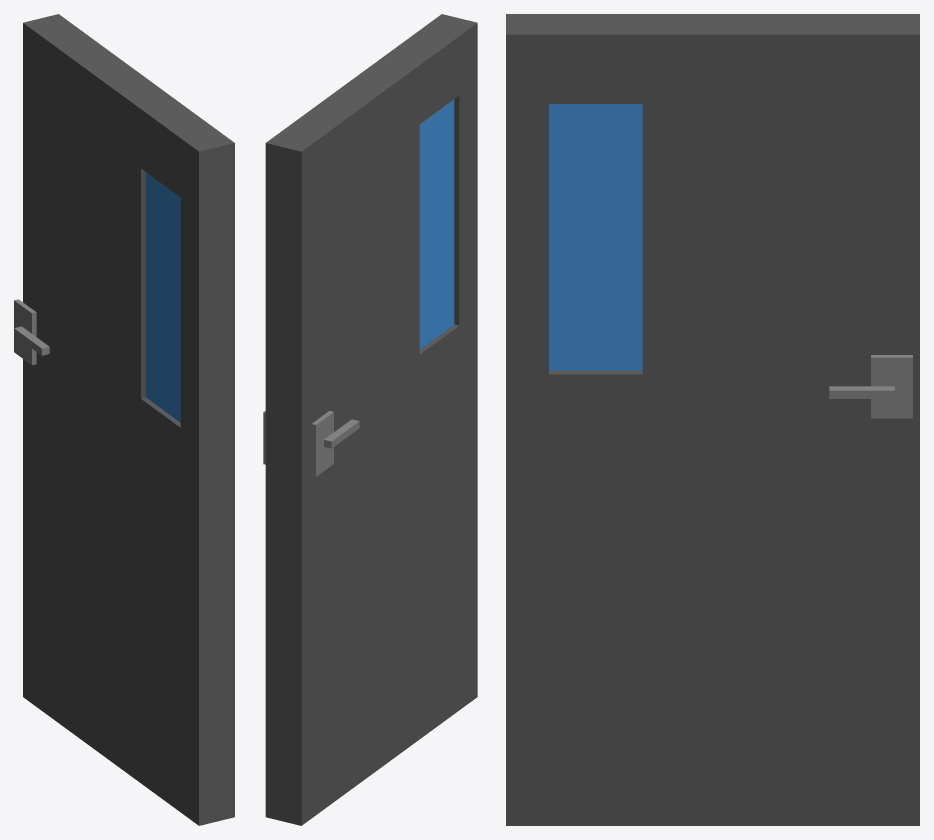
File: DoorIron.glb
3 views of the same model, side by side, from view 1: azimuth 30°, elevation 25°; view 2: azimuth 150°, elevation 25°; view 3: azimuth 270°, elevation 25° (orthographic). The views are drawn at different scales.
Parts seen in each view (by area): view 1: DoorIron, Glass; view 2: DoorIron, Glass; view 3: DoorIron, Glass.
Part boxes in pixels (x1,y1,x2,y2): DoorIron: (14,14,234,825); Glass: (146,172,180,422); DoorIron: (263,14,477,825); Glass: (419,99,454,349); DoorIron: (506,14,919,825); Glass: (549,104,642,369).
Size of the model in its own units: 0.2014 by 1.9 by 0.9.
